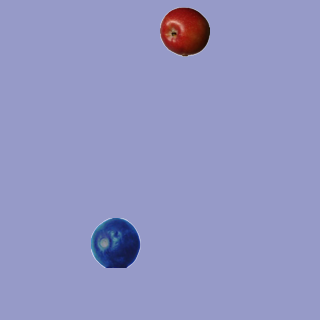Apple Braeburn: (159, 6, 209, 56)
Huckleberry: (90, 217, 140, 267)
